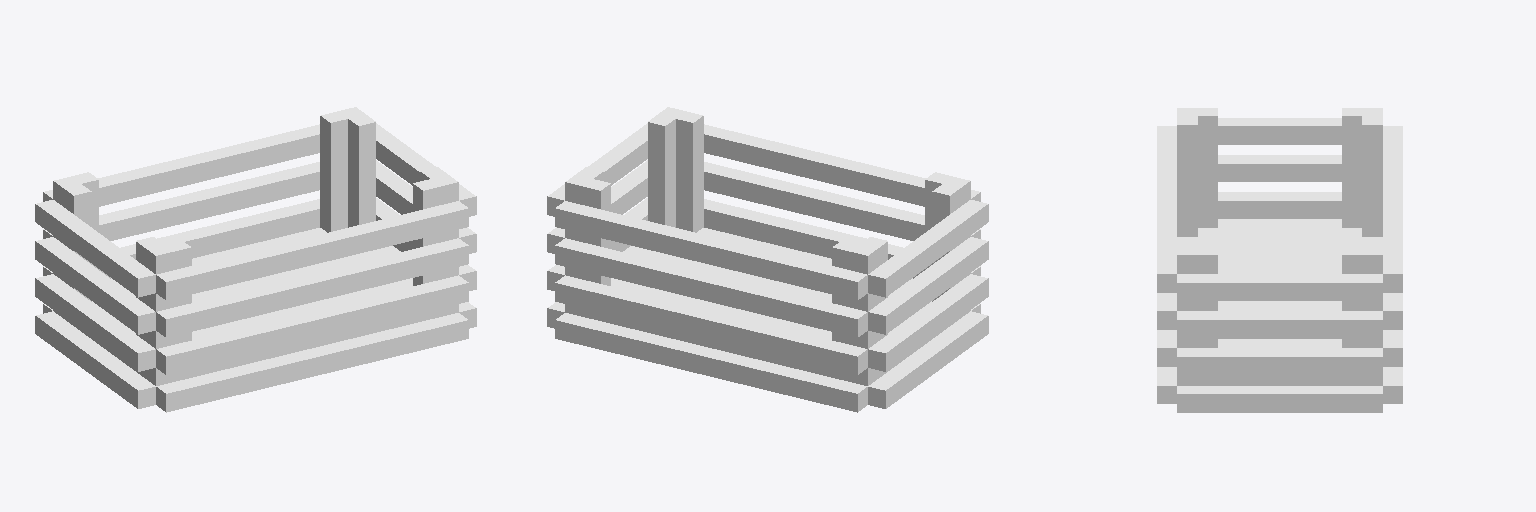
Rendered from Box_Lettuce_Level_1.obj.
3 renders of one model, left to right at view 1: azimuth 30°, elevation 25°; view 2: azimuth 150°, elevation 25°; view 3: azimuth 270°, elevation 25°, orthographic.
Parts seen in each view (by area): view 1: Box_Lettuce_Level_1; view 2: Box_Lettuce_Level_1; view 3: Box_Lettuce_Level_1.
Boxes of the visible parts, x1=… form: Box_Lettuce_Level_1: x1=35, y1=107, x2=476, y2=412; Box_Lettuce_Level_1: x1=547, y1=107, x2=988, y2=412; Box_Lettuce_Level_1: x1=1157, y1=108, x2=1402, y2=412.
Size of the model in its own units: 19 by 8 by 12.